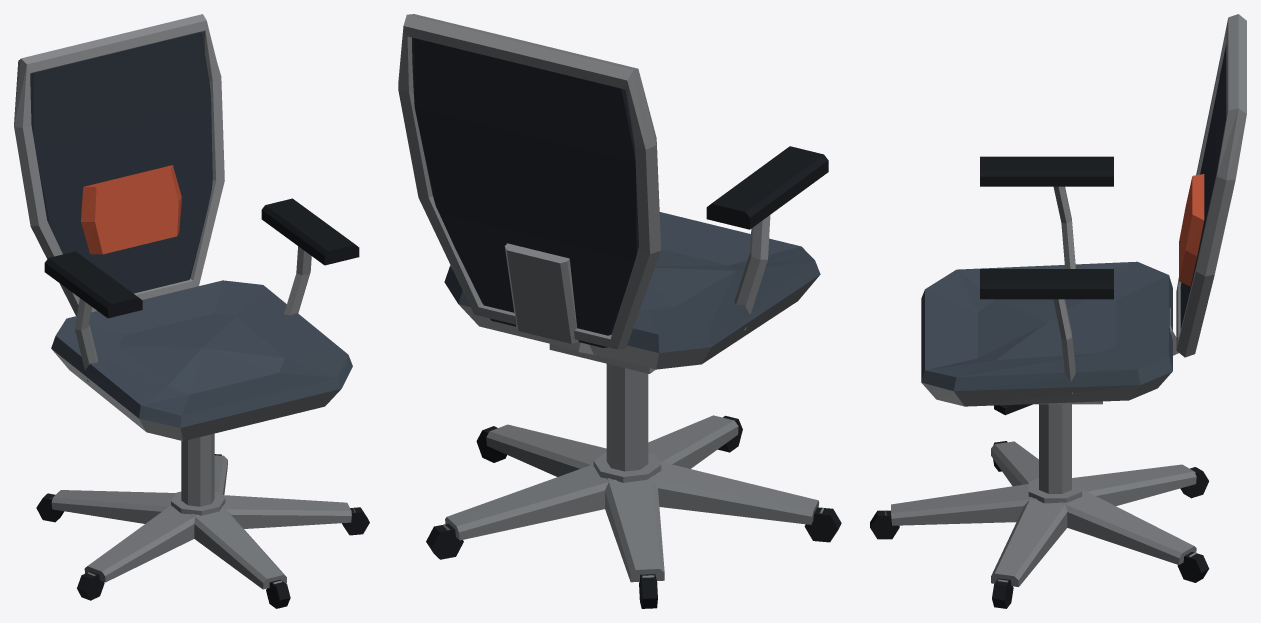
Rendered from chair.glb.
3 renders of one model, left to right at view 1: azimuth 30°, elevation 25°; view 2: azimuth 150°, elevation 25°; view 3: azimuth 270°, elevation 25°, orthographic. The views are drawn at different scales.
Parts seen in each view (by area): view 1: swivel, object 1; view 2: swivel, object 1; view 3: swivel, object 1.
Part boxes in pixels (x1,y1,x2,y2): swivel: [14, 14, 359, 440]; object 1: [36, 433, 369, 608]; swivel: [398, 14, 828, 373]; object 1: [426, 364, 841, 608]; swivel: [921, 14, 1246, 406]; object 1: [870, 404, 1209, 608].
Bounding box in the file's own units: 0.6379 × 0.938 × 0.674.
